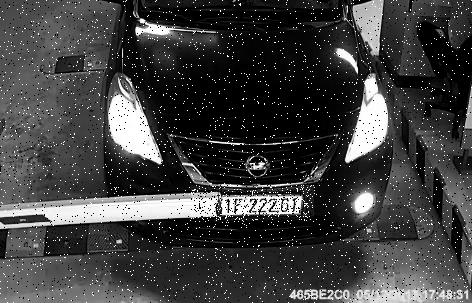License-plate: (192, 186, 315, 223)
